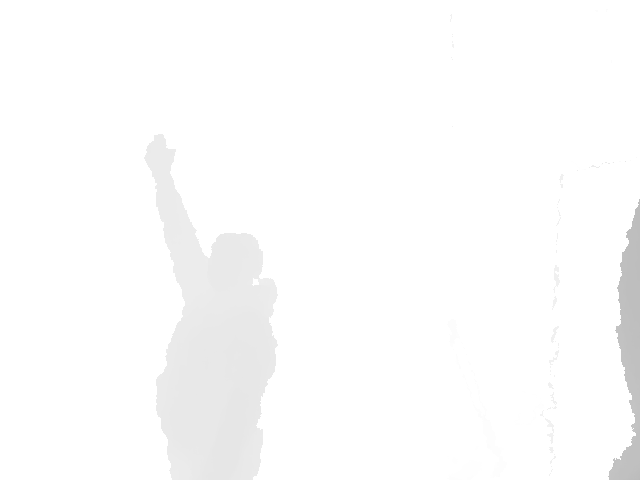hand: (143, 134, 177, 184)
head: (211, 233, 263, 285)
person: (143, 134, 277, 480)
